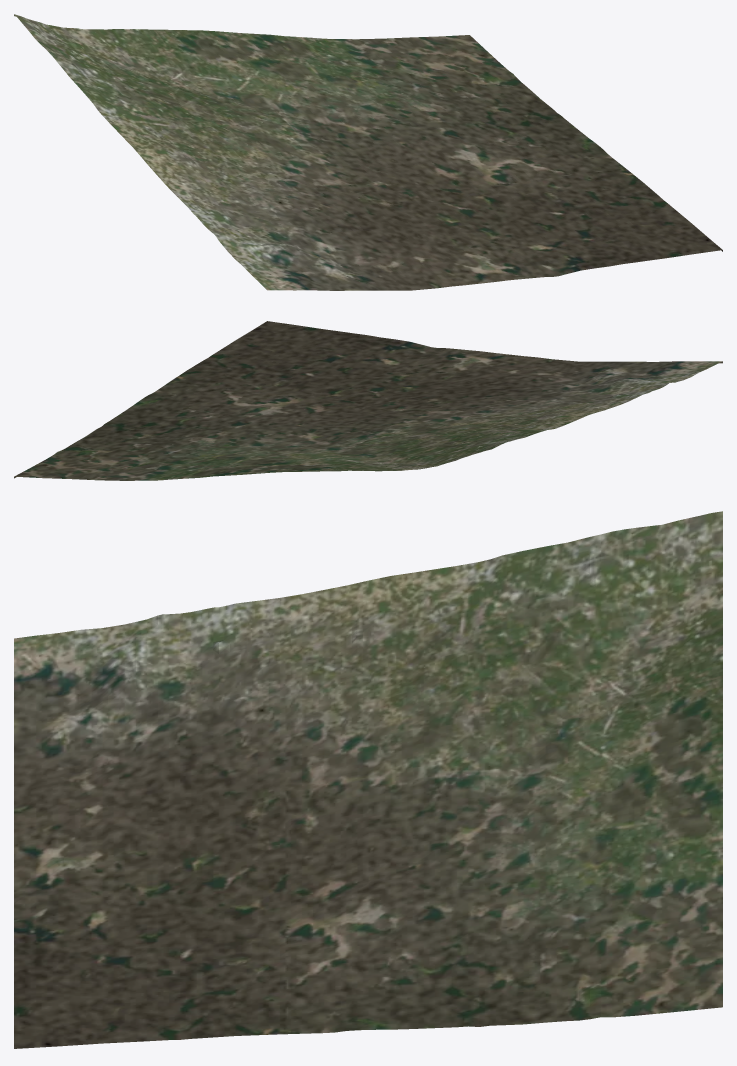
The picture shows the model from 3 angles, top to bottom: view 1: azimuth 30°, elevation 25°; view 2: azimuth 150°, elevation 25°; view 3: azimuth 270°, elevation 25°; orthographic projection. The views are drawn at different scales.
Size of the model in its own units: 250 by 85.79 by 241.
Materials: 1 (1 with a texture image).
